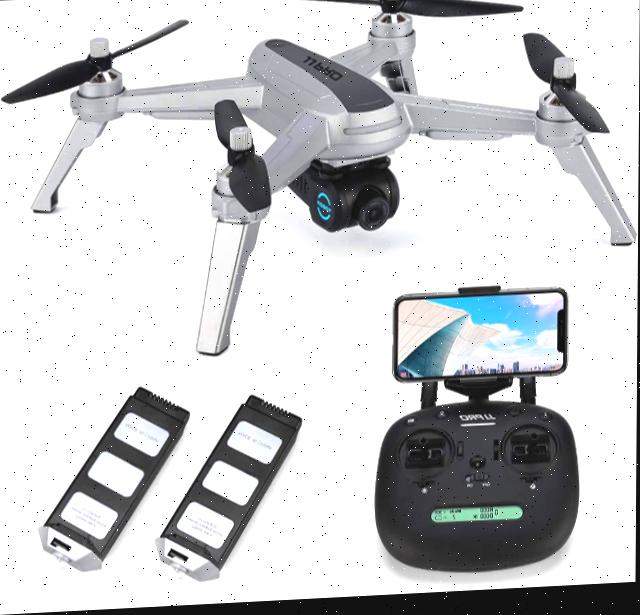drone: (0, 0, 640, 371)
